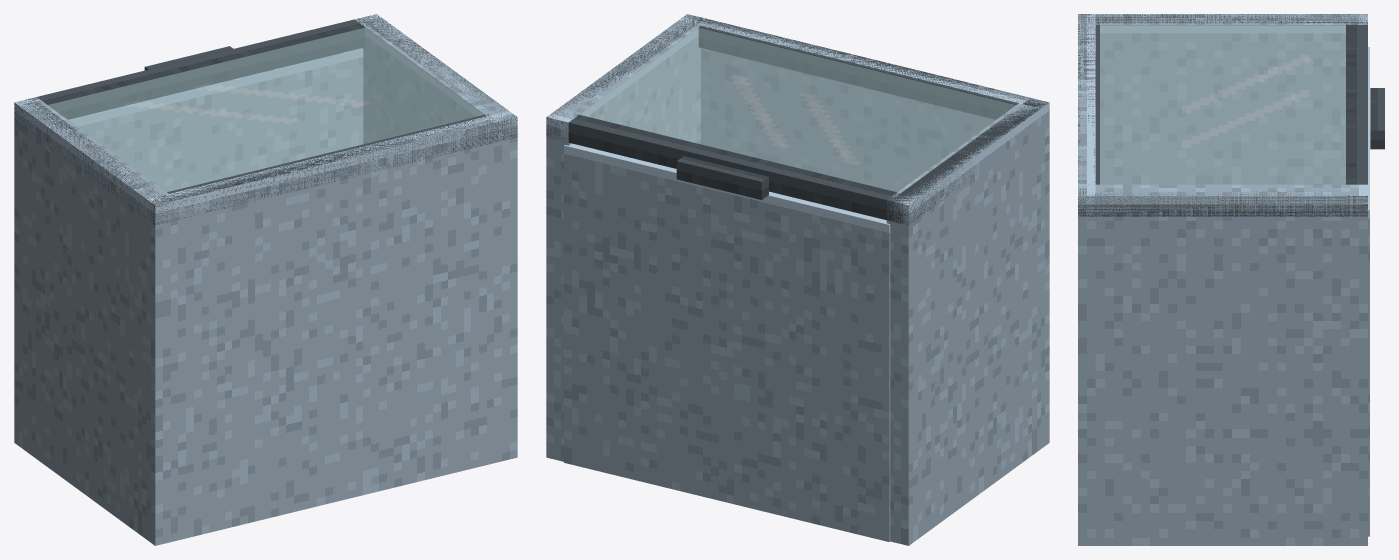
Rendered from f_display_freezer.glb.
3 views of the same model, side by side, from view 1: azimuth 30°, elevation 25°; view 2: azimuth 150°, elevation 25°; view 3: azimuth 270°, elevation 25° (orthographic). The views are drawn at different scales.
Visible parts, largest first — view 1: block_back, block_side--0.45999999999999996, block_glass-display, block_front-panel, block_lid-rail (×2), block_side-0.45999999999999996, block_lid-side (×2); view 2: block_front-panel, block_side--0.45999999999999996, block_glass-display, block_back, block_lid-rail (×2), block_side-0.45999999999999996, block_lid-side (×2), block_lid-handle; view 3: block_side-0.45999999999999996, block_side--0.45999999999999996, block_glass-display, block_back, block_lid-side (×2), block_lid-rail (×2), block_front-panel, block_lid-handle.
Boxes of the visible parts, x1,y1,x2,y2 form: block_back: [146, 111, 517, 545]; block_side--0.45999999999999996: [14, 97, 168, 539]; block_glass-display: [48, 28, 483, 191]; block_front-panel: [68, 48, 363, 191]; block_lid-rail (×2): [33, 18, 498, 220]; block_side-0.45999999999999996: [355, 14, 508, 143]; block_lid-side (×2): [14, 14, 517, 224]; block_front-panel: [564, 143, 890, 541]; block_side--0.45999999999999996: [886, 103, 1040, 545]; block_glass-display: [580, 28, 1015, 191]; block_back: [679, 14, 1049, 448]; block_lid-rail (×2): [565, 18, 1030, 220]; block_side-0.45999999999999996: [546, 20, 700, 461]; block_lid-side (×2): [546, 15, 1047, 224]; block_lid-handle: [676, 156, 768, 199]; block_side-0.45999999999999996: [1095, 184, 1367, 545]; block_side--0.45999999999999996: [1095, 14, 1367, 184]; block_glass-display: [1100, 25, 1345, 184]; block_back: [1078, 14, 1095, 545]; block_lid-side (×2): [1078, 14, 1367, 216]; block_lid-rail (×2): [1078, 23, 1367, 185]; block_front-panel: [1368, 47, 1369, 536]; block_lid-handle: [1370, 88, 1384, 149].
Bounding box in the file's own units: 0.98 × 0.88 × 0.6985.
2 materials, 2 textured.
